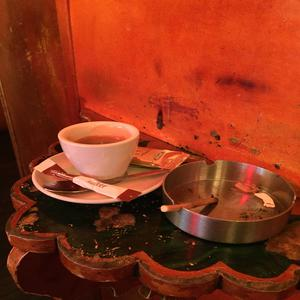cigarette: (159, 196, 218, 215)
